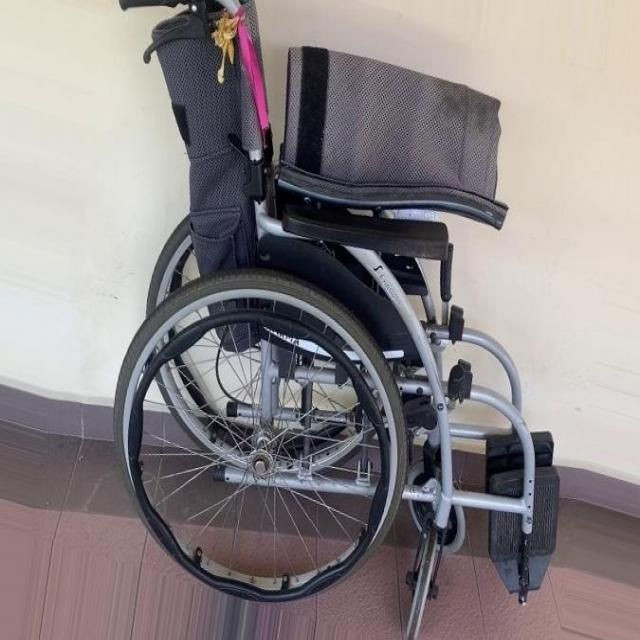wheelchair: (100, 0, 571, 640)
